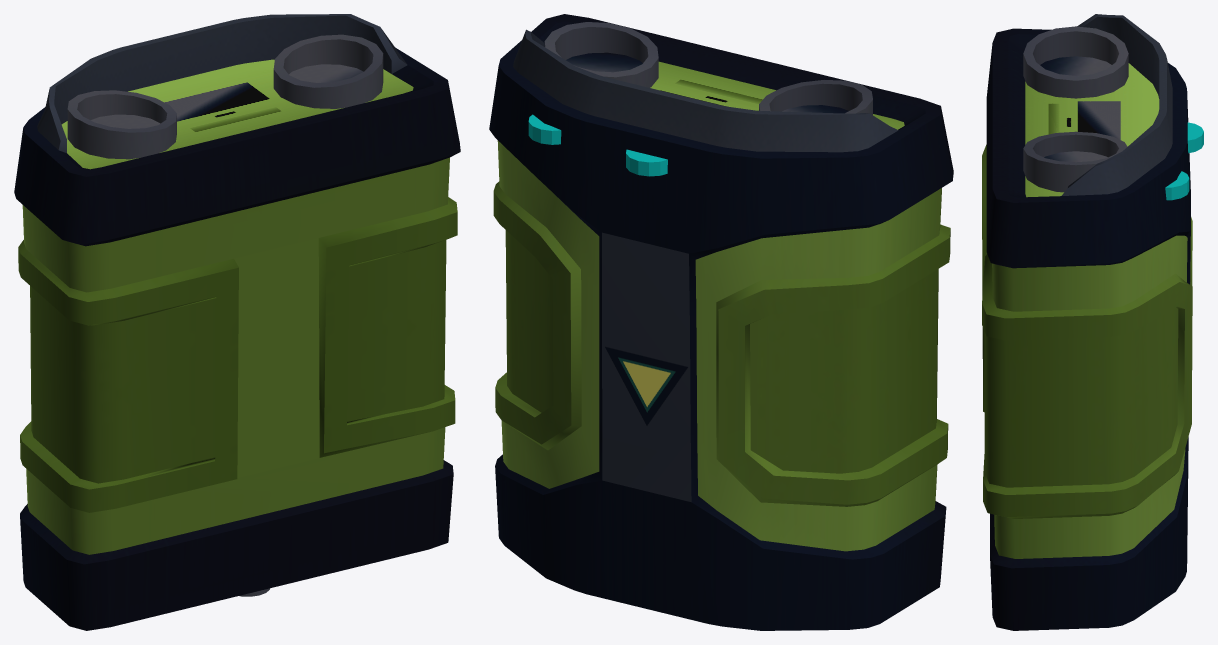
The model's file is Binoculars.fbx.
3 views of the same model, side by side, from view 1: azimuth 30°, elevation 25°; view 2: azimuth 150°, elevation 25°; view 3: azimuth 270°, elevation 25° (orthographic). The views are drawn at different scales.
Parts seen in each view (by area): view 1: Binoculars; view 2: Binoculars; view 3: Binoculars.
Boxes of the visible parts, x1,y1,x2,y2 form: Binoculars: [14, 14, 460, 630]; Binoculars: [489, 14, 953, 630]; Binoculars: [982, 14, 1203, 630].
Bounding box in the file's own units: 59.11 × 71.3 × 30.3.
1 material, 1 textured.
